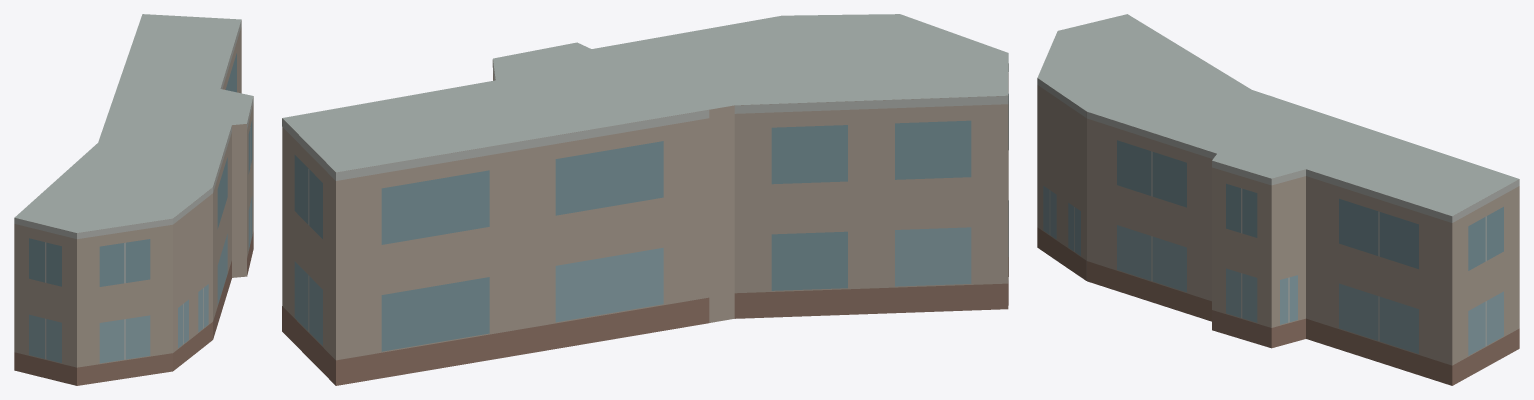
File: survey-upis-32822226.glb
3 renders of one model, left to right at view 1: azimuth 30°, elevation 25°; view 2: azimuth 150°, elevation 25°; view 3: azimuth 270°, elevation 25°, orthographic. The views are drawn at different scales.
Parts seen in each view (by area): view 1: survey-upis-32822226.tmp; view 2: survey-upis-32822226.tmp; view 3: survey-upis-32822226.tmp.
Part boxes in pixels (x1,y1,x2,y2): survey-upis-32822226.tmp: (14,14,253,385); survey-upis-32822226.tmp: (282,14,1008,385); survey-upis-32822226.tmp: (1037,14,1519,385).
Size of the model in its own units: 15.62 by 6.1 by 15.73.
